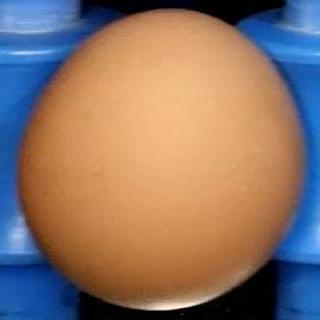Telur: (10, 9, 316, 312)
